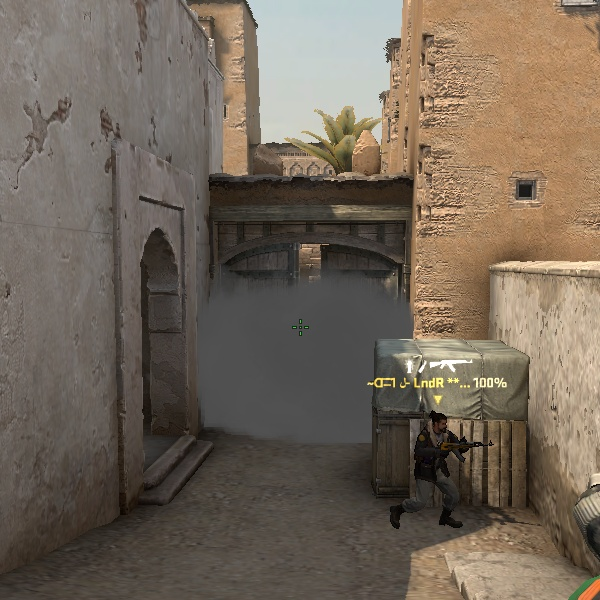t_body: (385, 402, 484, 535)
t_head: (428, 409, 452, 438)
